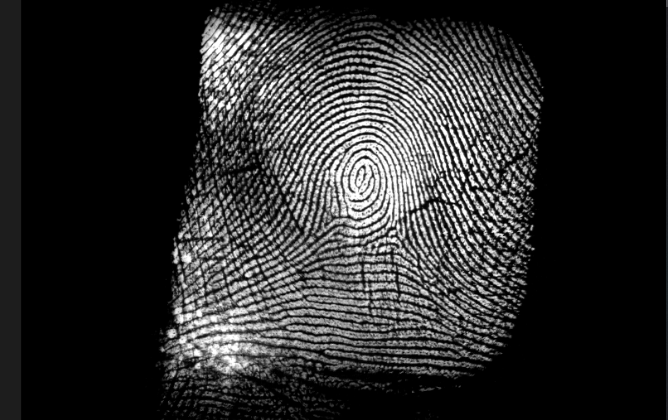deltas: (384, 216, 423, 261)
nucleo: (344, 150, 376, 196)
